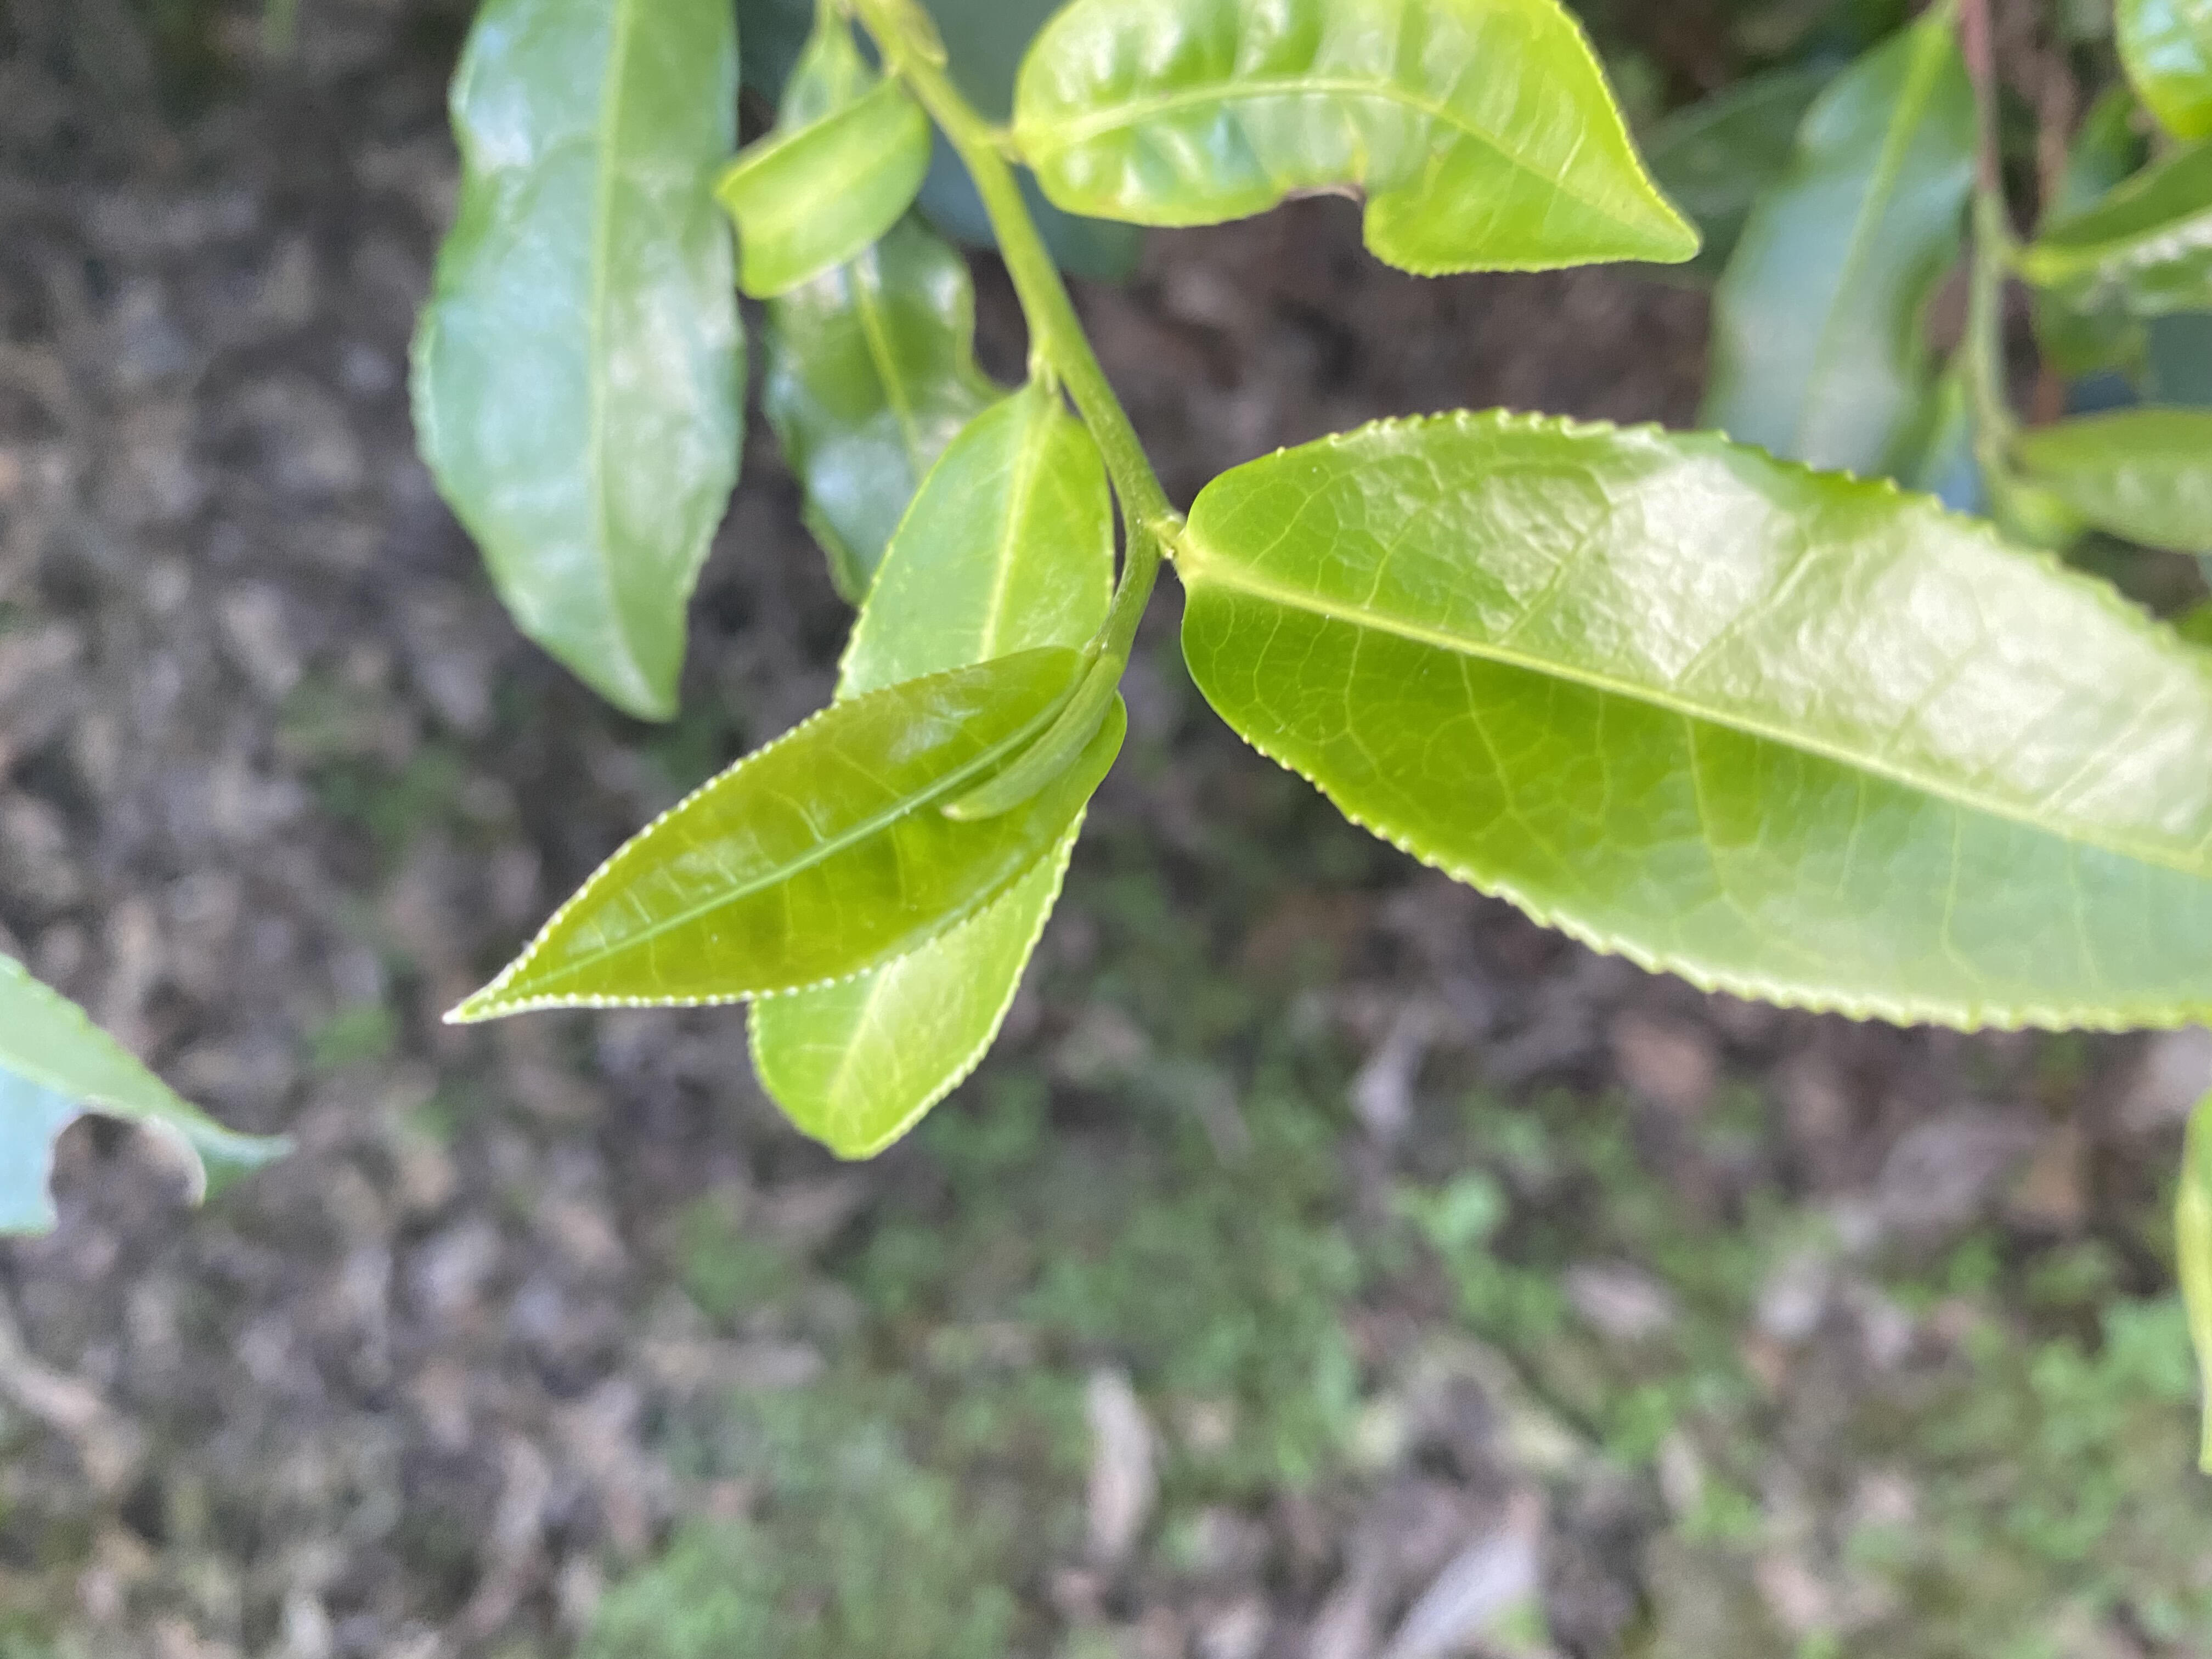chihuo_high: (3, 951, 296, 1243)
healthy: (1176, 406, 2212, 1035), (744, 394, 1127, 1164), (435, 643, 1130, 1018)
tanju_low: (1010, 2, 1702, 274)
